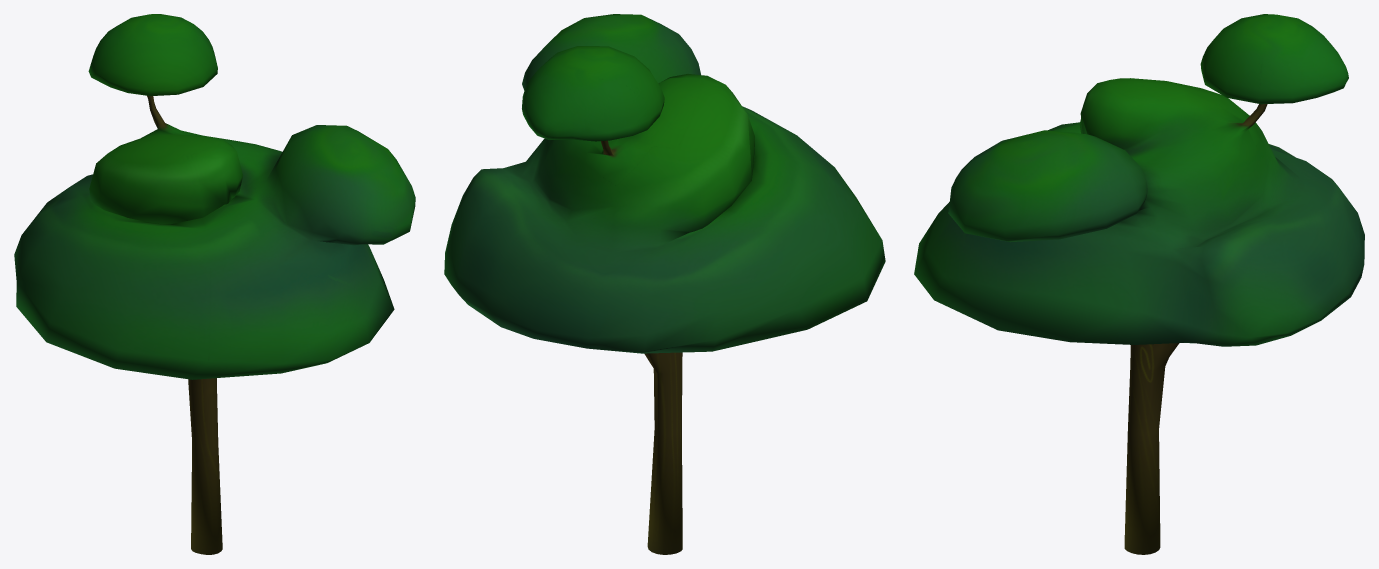
The model's file is MushroomTree.fbx.
The picture shows the model from 3 angles, left to right: view 1: azimuth 30°, elevation 25°; view 2: azimuth 150°, elevation 25°; view 3: azimuth 270°, elevation 25°; orthographic projection. The views are drawn at different scales.
Visible parts, largest first — view 1: MushroomBush; view 2: MushroomBush; view 3: MushroomBush.
Boxes of the visible parts, bbox=[...] form: MushroomBush: bbox=[14, 14, 415, 554]; MushroomBush: bbox=[444, 14, 885, 554]; MushroomBush: bbox=[914, 14, 1364, 554].
Size of the model in its own units: 212 by 301 by 233.
Materials: 1 (1 with a texture image).
